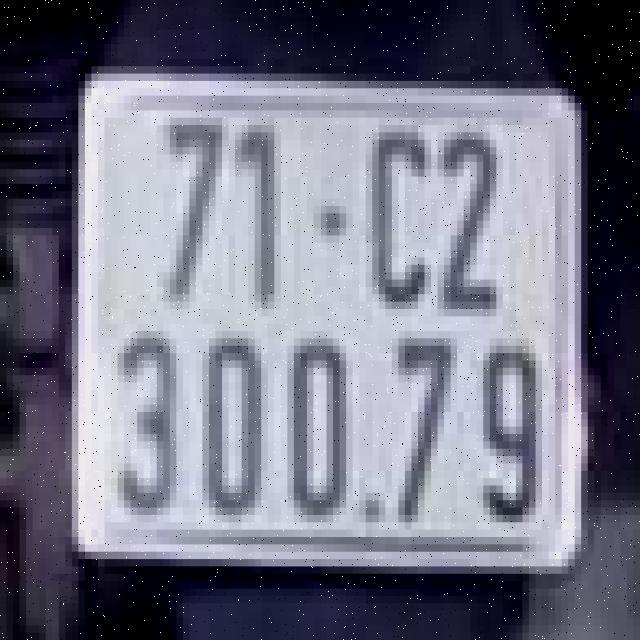0: (192, 327, 278, 541), (277, 331, 356, 522)
1: (235, 118, 294, 316)
2: (434, 121, 513, 335)
3: (108, 316, 192, 530)
7: (378, 327, 451, 548), (156, 106, 228, 312)
9: (464, 331, 548, 544)
C: (350, 106, 434, 312)
